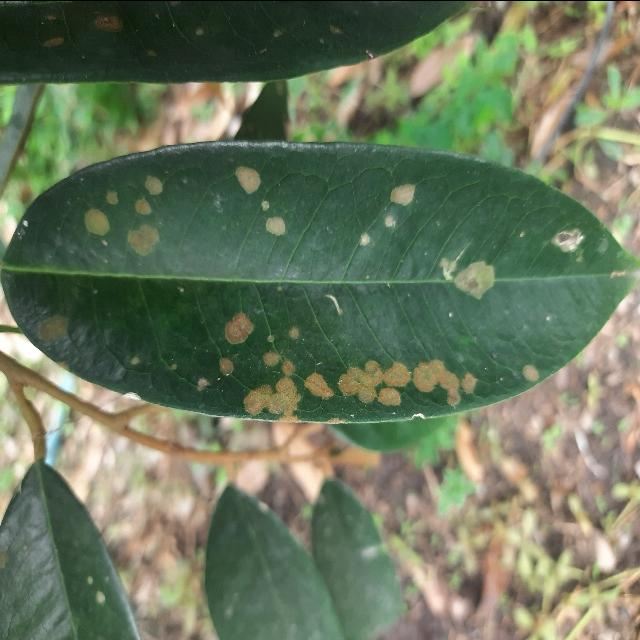Algal Leaf Spot: (0, 131, 640, 431)
